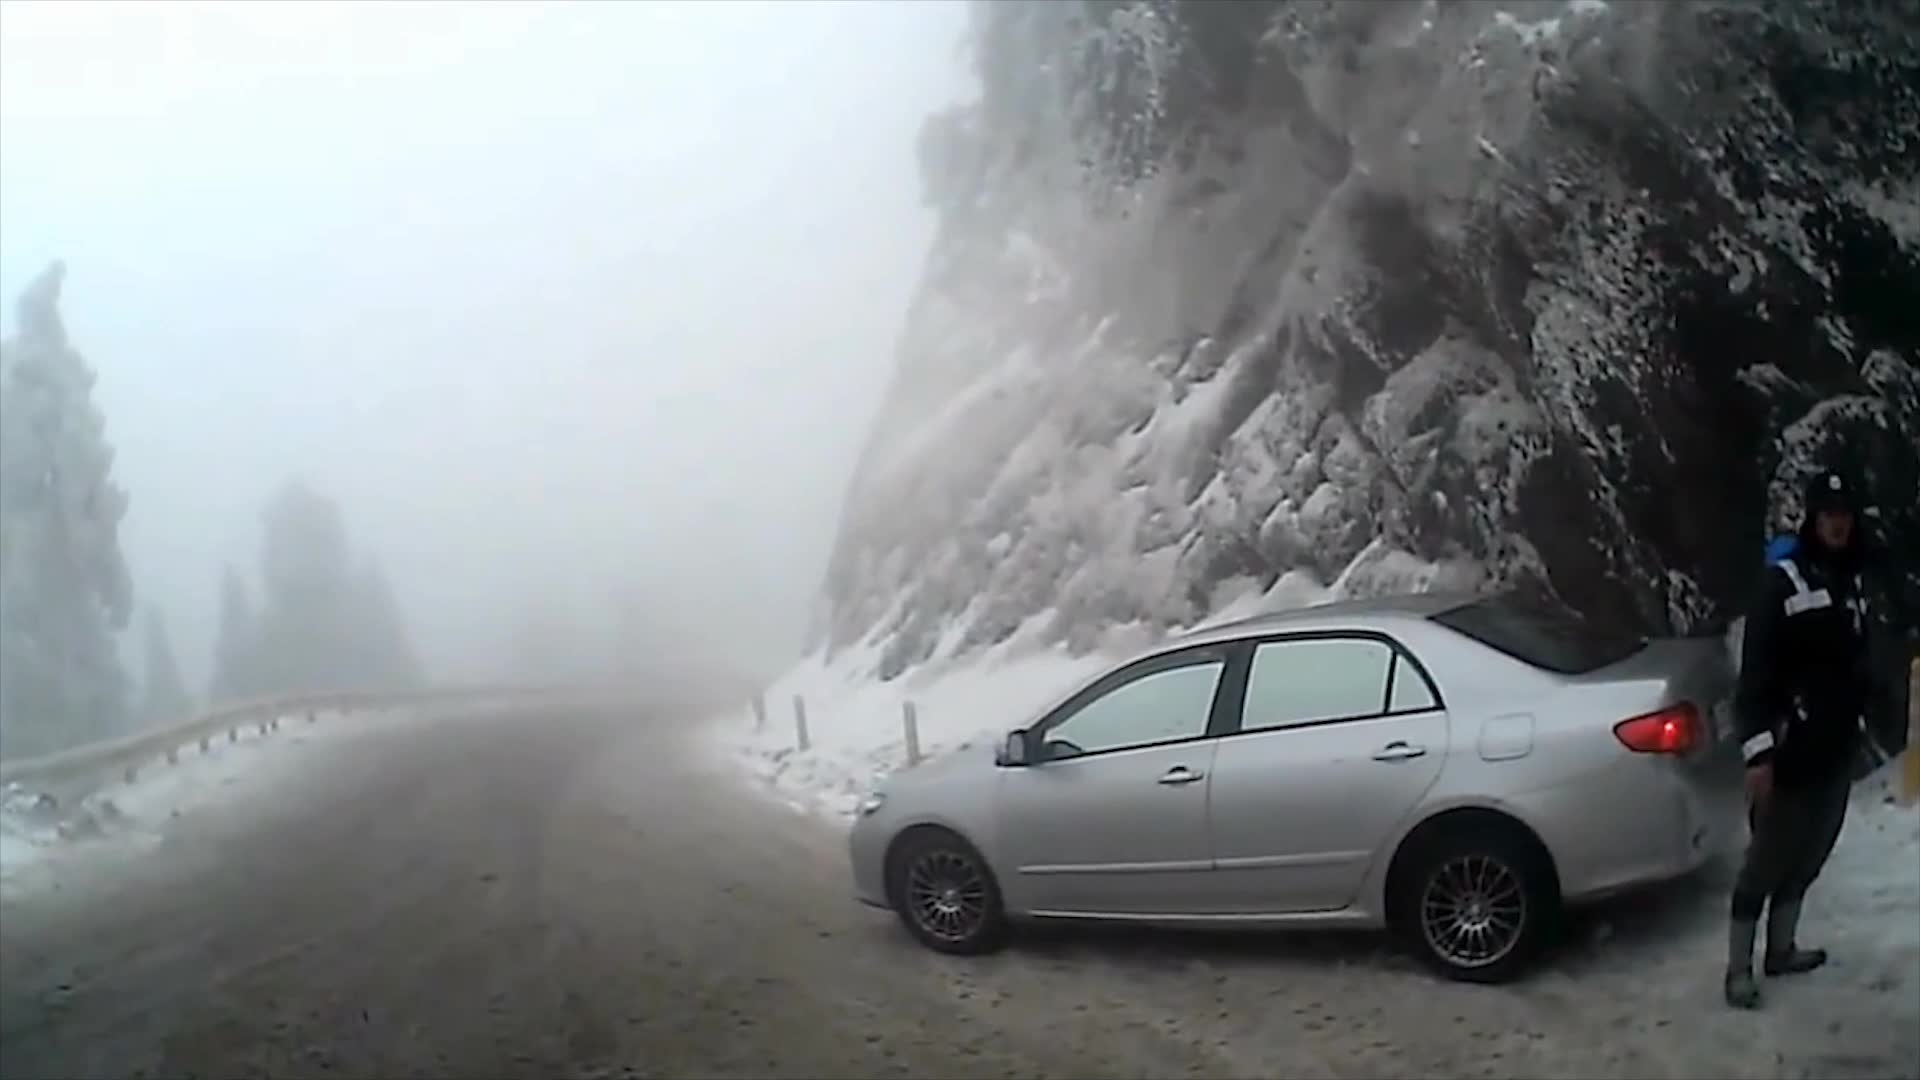pedestrian: (1726, 454, 1884, 1008)
vehicle: (845, 590, 1779, 987)
